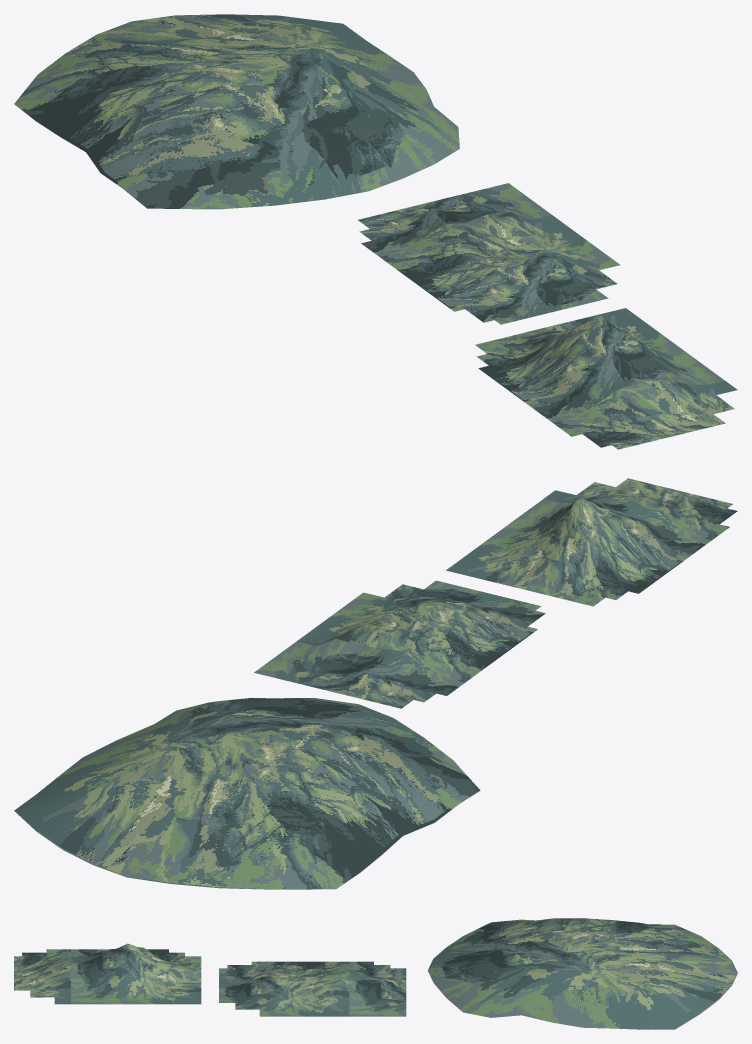
Rendered from BgMD_Mid_Plain_B.FBX.
The picture shows the model from 3 angles, top to bottom: view 1: azimuth 30°, elevation 25°; view 2: azimuth 150°, elevation 25°; view 3: azimuth 270°, elevation 25°; orthographic projection. The views are drawn at different scales.
Parts seen in each view (by area): view 1: BgMD_Mid_Plain_B, BgMD_Mid_Plain_B_dune_tall, BgMD_Mid_Plain_B_dune_low; view 2: BgMD_Mid_Plain_B, BgMD_Mid_Plain_B_dune_tall, BgMD_Mid_Plain_B_dune_low; view 3: BgMD_Mid_Plain_B, BgMD_Mid_Plain_B_dune_tall, BgMD_Mid_Plain_B_dune_low.
Part boxes in pixels (left/top/right/bottom): BgMD_Mid_Plain_B: left=14, top=14, right=459, bottom=209; BgMD_Mid_Plain_B_dune_tall: left=475, top=308, right=737, bottom=449; BgMD_Mid_Plain_B_dune_low: left=358, top=183, right=620, bottom=324; BgMD_Mid_Plain_B: left=14, top=697, right=480, bottom=889; BgMD_Mid_Plain_B_dune_tall: left=446, top=478, right=737, bottom=606; BgMD_Mid_Plain_B_dune_low: left=254, top=580, right=545, bottom=708; BgMD_Mid_Plain_B: left=428, top=918, right=737, bottom=1029; BgMD_Mid_Plain_B_dune_tall: left=14, top=943, right=201, bottom=1004; BgMD_Mid_Plain_B_dune_low: left=219, top=961, right=406, bottom=1016.
Bounding box in the file's own units: 3133 × 475 × 8884.
